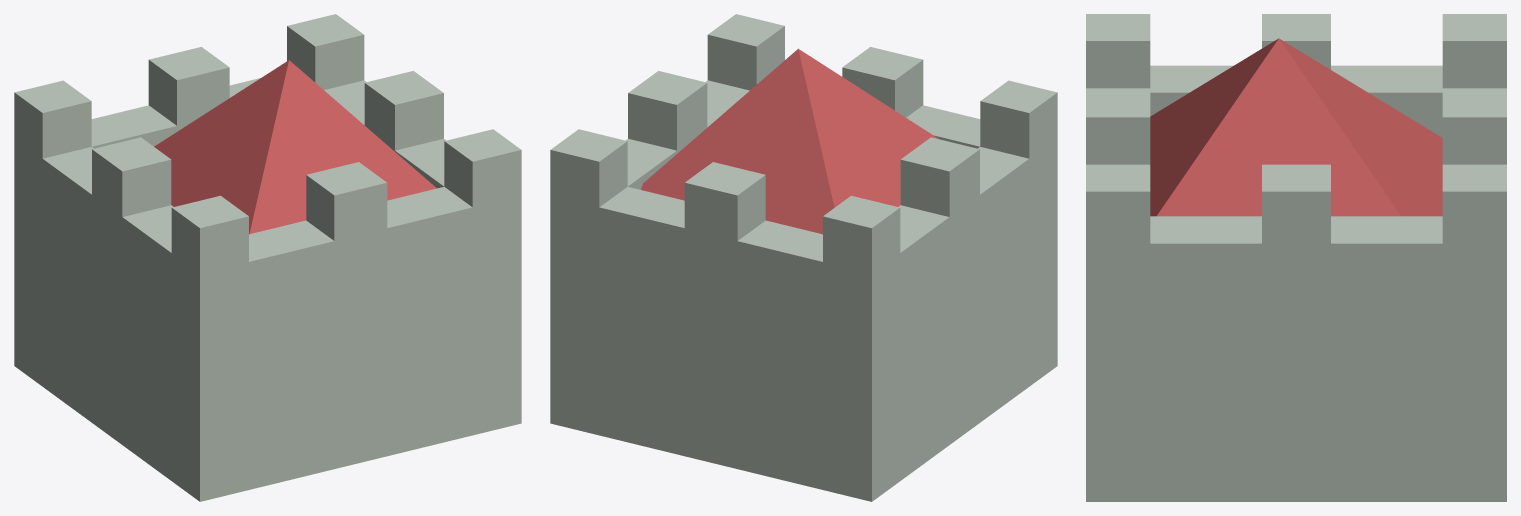
File: tile_055.fbx
3 renders of one model, left to right at view 1: azimuth 30°, elevation 25°; view 2: azimuth 150°, elevation 25°; view 3: azimuth 270°, elevation 25°, orthographic. The views are drawn at different scales.
Visible parts, largest first — view 1: tile_055, Group; view 2: tile_055, Group; view 3: tile_055, Group.
Part boxes in pixels (left/top/right/bottom): tile_055: left=14, top=14, right=521, bottom=501; Group: left=154, top=60, right=436, bottom=234; tile_055: left=550, top=14, right=1057, bottom=501; Group: left=641, top=48, right=938, bottom=234; tile_055: left=1086, top=14, right=1506, bottom=501; Group: left=1150, top=38, right=1442, bottom=216.
Bounding box in the file's own units: 5.9 × 5.91 × 5.9.
